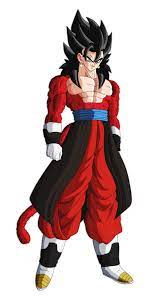Vegito: (62, 15, 117, 82)
